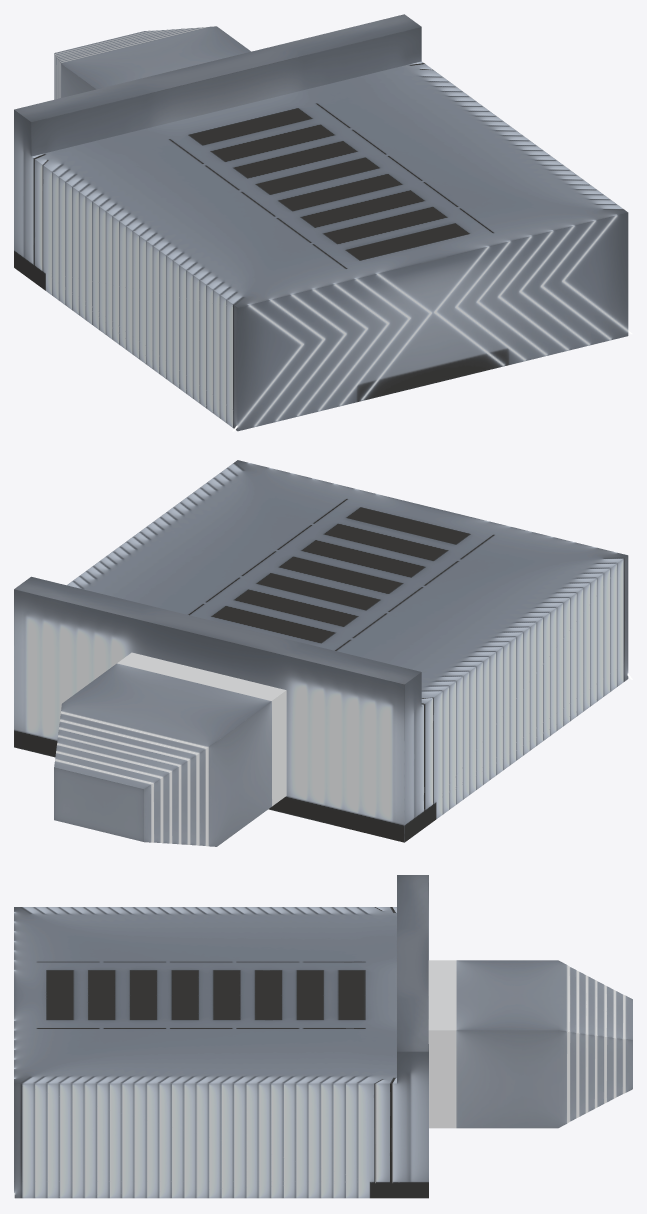
Rendered from show.glb.
3 renders of one model, top to bottom at view 1: azimuth 30°, elevation 25°; view 2: azimuth 150°, elevation 25°; view 3: azimuth 270°, elevation 25°, orthographic. The views are drawn at different scales.
Parts seen in each view (by area): view 1: house_house1_0, house_house2_0; view 2: house_house1_0, house_house2_0; view 3: house_house1_0, house_house2_0, side_side1_0.
Part boxes in pixels (bbox=[...]): house_house1_0: bbox=[14, 14, 628, 431]; house_house2_0: bbox=[55, 27, 206, 99]; house_house1_0: bbox=[14, 460, 628, 846]; house_house2_0: bbox=[55, 652, 286, 846]; house_house1_0: bbox=[14, 875, 632, 1198]; house_house2_0: bbox=[428, 960, 625, 1128]; side_side1_0: bbox=[374, 1083, 392, 1183].
Size of the model in its own units: 30.86 by 11.65 by 44.56.
Materials: 8 (6 with a texture image).
